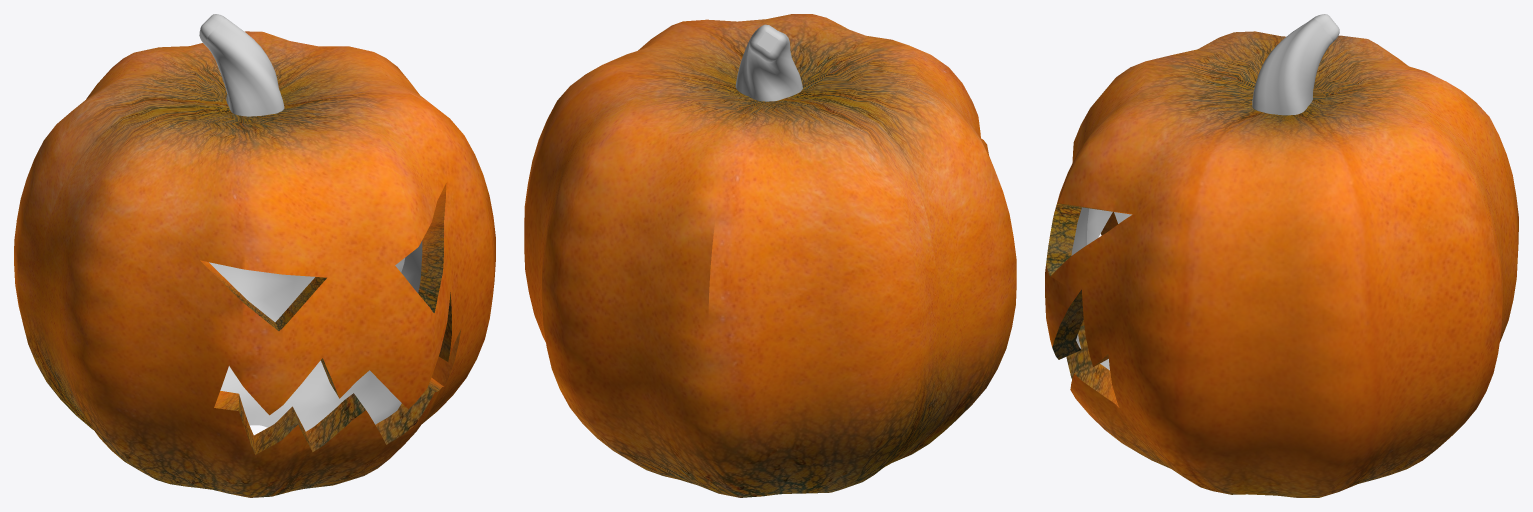
Rendered from pumpkin-v02.glb.
The picture shows the model from 3 angles, left to right: view 1: azimuth 30°, elevation 25°; view 2: azimuth 150°, elevation 25°; view 3: azimuth 270°, elevation 25°; orthographic projection. The views are drawn at different scales.
Visible parts, largest first — view 1: pumpkin_body_outside, pumpkin_body_inside, pumpkin_stalk; view 2: pumpkin_body_outside, pumpkin_stalk; view 3: pumpkin_body_outside, pumpkin_stalk, pumpkin_body_inside.
Boxes of the visible parts, x1,y1,x2,y2 form: pumpkin_body_outside: (14,31,495,497); pumpkin_body_inside: (209,240,422,431); pumpkin_stalk: (199,14,284,116); pumpkin_body_outside: (524,14,1016,497); pumpkin_stalk: (735,24,802,101); pumpkin_body_outside: (1045,31,1518,497); pumpkin_stalk: (1252,14,1339,115); pumpkin_body_inside: (1071,207,1131,370).
Bounding box in the file's own units: 1.87 × 1.89 × 1.87.
3 materials, 1 textured.
